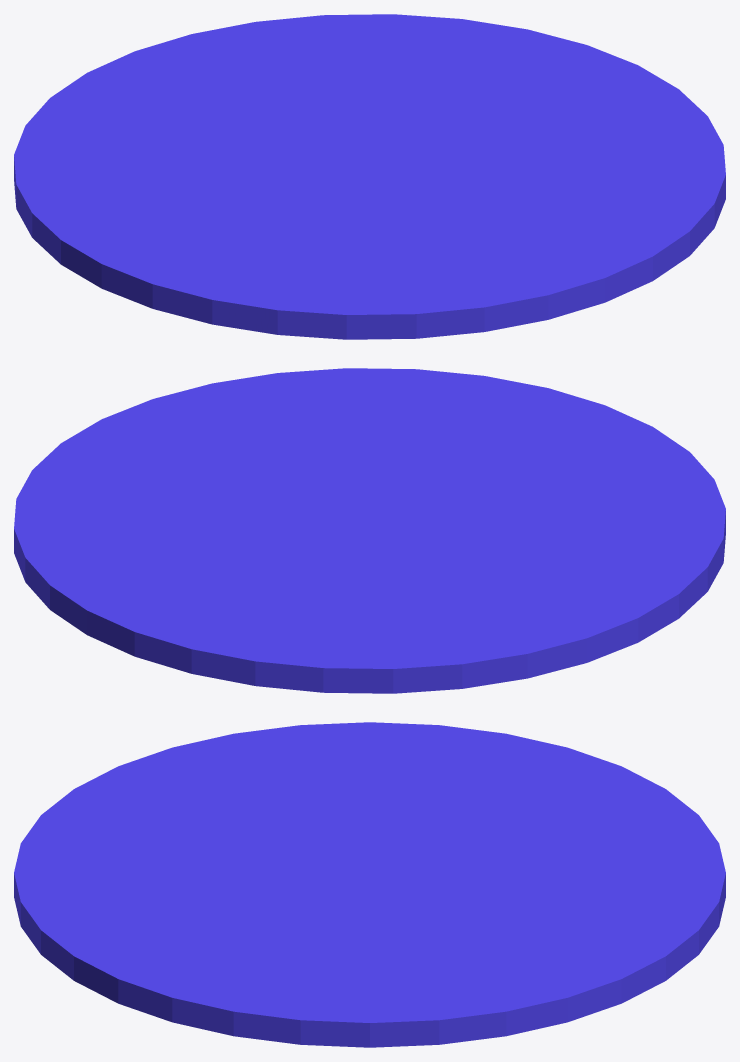
File: menu2.glb
3 renders of one model, top to bottom at view 1: azimuth 30°, elevation 25°; view 2: azimuth 150°, elevation 25°; view 3: azimuth 270°, elevation 25°, orthographic.
Parts seen in each view (by area): view 1: Cylinder; view 2: Cylinder; view 3: Cylinder.
Part boxes in pixels (box(x1,y1,x2,y2)): Cylinder: box(14, 14, 725, 339); Cylinder: box(14, 368, 725, 693); Cylinder: box(14, 722, 725, 1047).
Bounding box in the file's own units: 0.9187 × 0.0351 × 0.9187.
